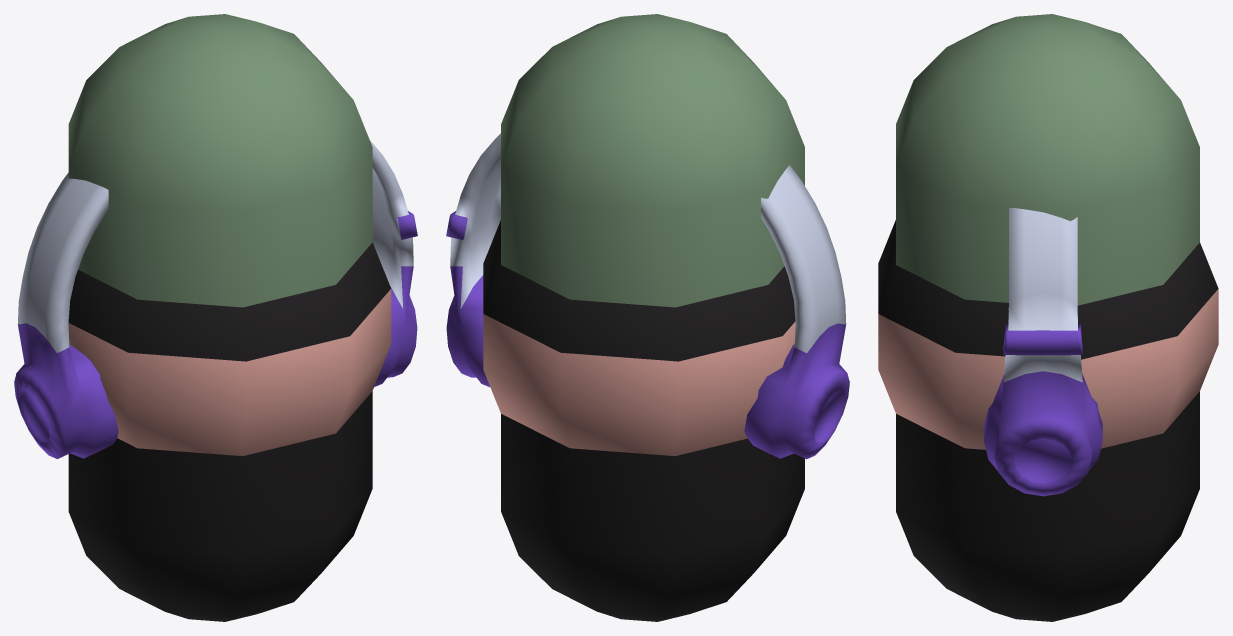
The model's file is character7.glb.
3 views of the same model, side by side, from view 1: azimuth 30°, elevation 25°; view 2: azimuth 150°, elevation 25°; view 3: azimuth 270°, elevation 25° (orthographic).
Parts seen in each view (by area): view 1: body, head; view 2: body, head; view 3: body, head.
Boxes of the visible parts, x1,y1,x2,y2 form: body: (68, 14, 372, 621); head: (14, 140, 417, 458); body: (501, 14, 804, 621); head: (446, 133, 849, 459); body: (896, 14, 1199, 621); head: (878, 207, 1218, 496).
Bounding box in the file's own units: 2.07 × 3.06 × 1.63.
